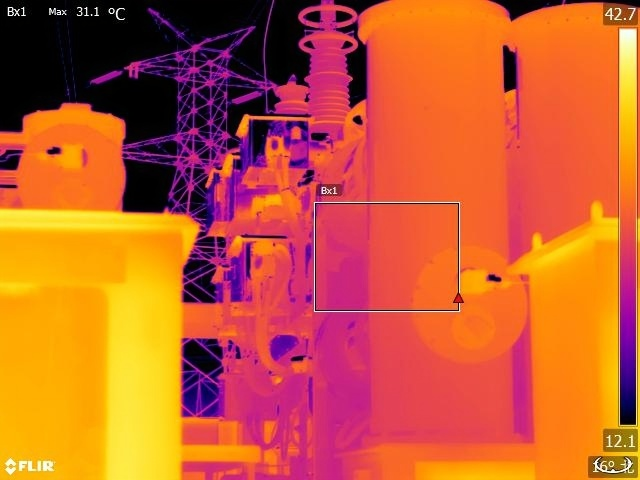potential transformer: (269, 70, 309, 140)
tube: (295, 3, 366, 137)
